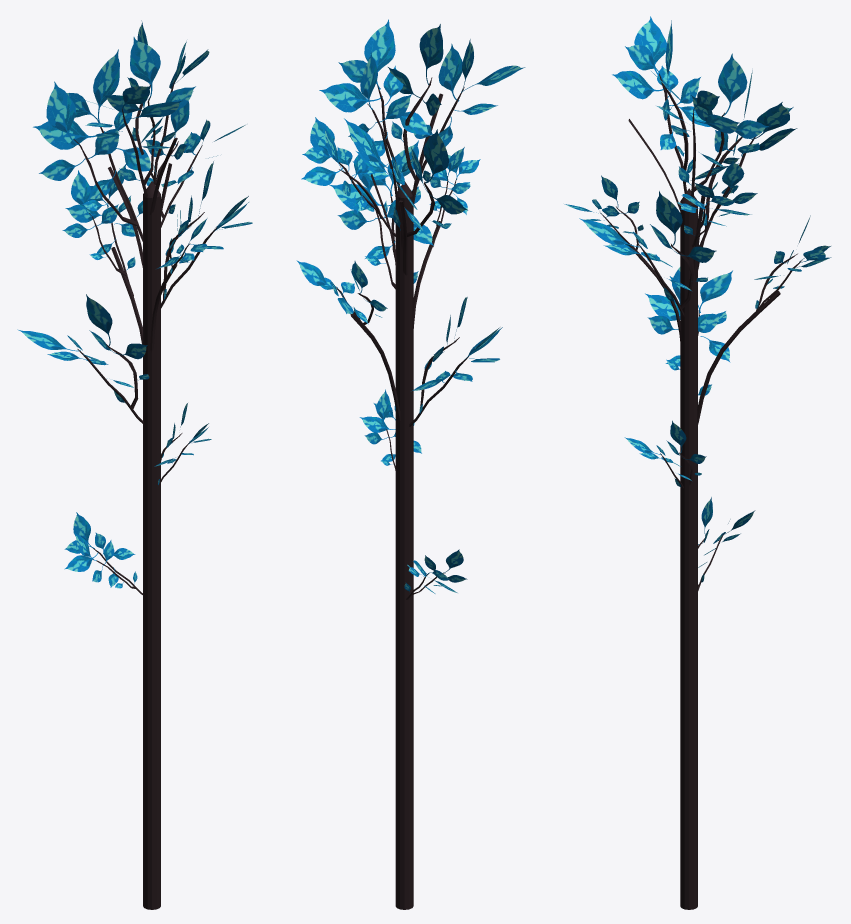
The model's file is bluetree1.fbx.
3 renders of one model, left to right at view 1: azimuth 30°, elevation 25°; view 2: azimuth 150°, elevation 25°; view 3: azimuth 270°, elevation 25°, orthographic.
Visible parts, largest first — view 1: pCylinder1065; view 2: pCylinder1065; view 3: pCylinder1065.
Boxes of the visible parts, left/top/right/bottom form: pCylinder1065: left=17, top=20, right=252, bottom=909; pCylinder1065: left=296, top=19, right=525, bottom=909; pCylinder1065: left=564, top=16, right=831, bottom=909.
Bounding box in the file's own units: 13.12 × 50 × 14.2.
